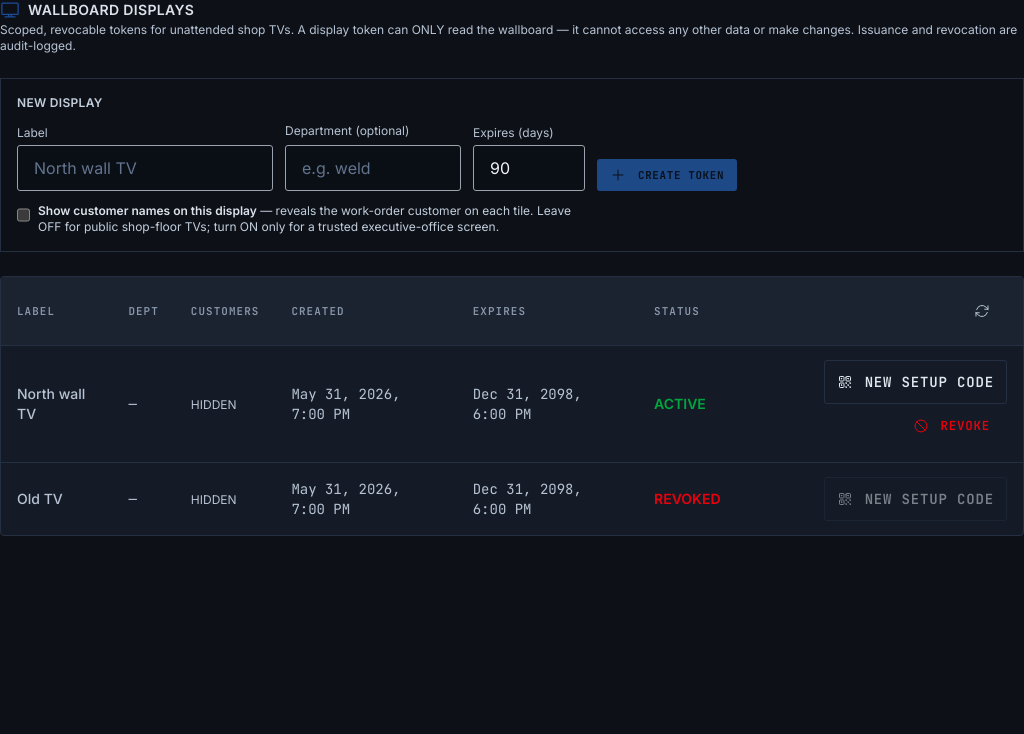
Test case: DisplayTokensTab › passes the optional department through on create
Expected: the text "North wall TV" is shown, [1,346,112,462]
Type "Weld bay monitor" into the field with test id "display-token-label". click: (145, 168)
box: [17,145,273,191]
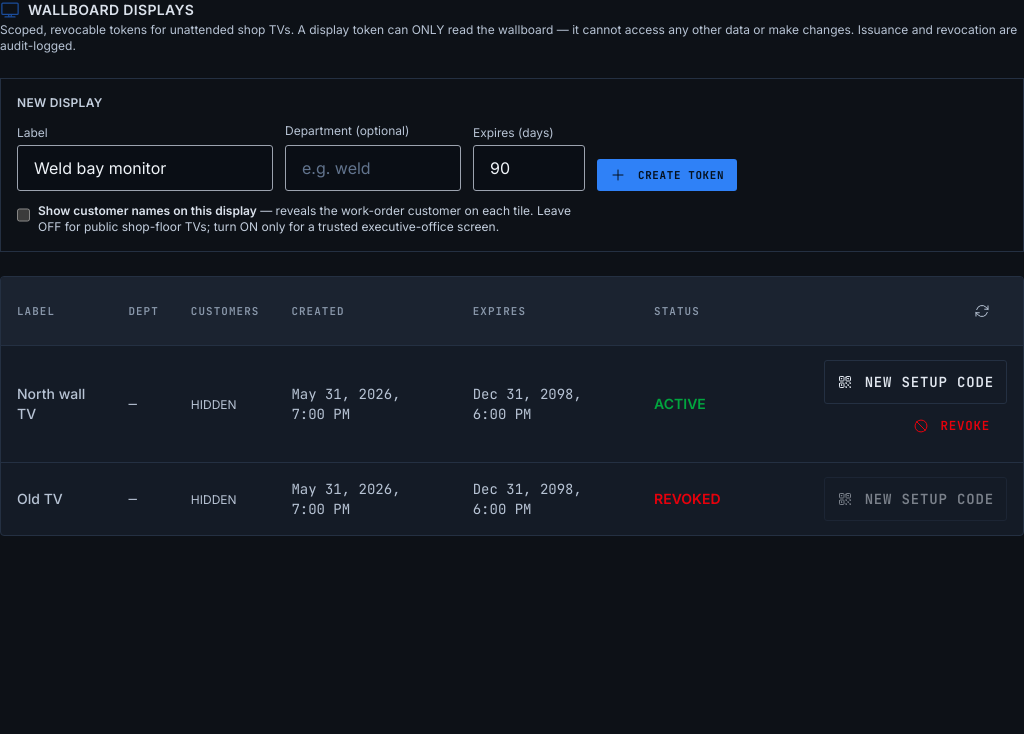
Type "weld" into the field with test id "display-token-dept". click: (373, 168)
box: [285,145,461,191]
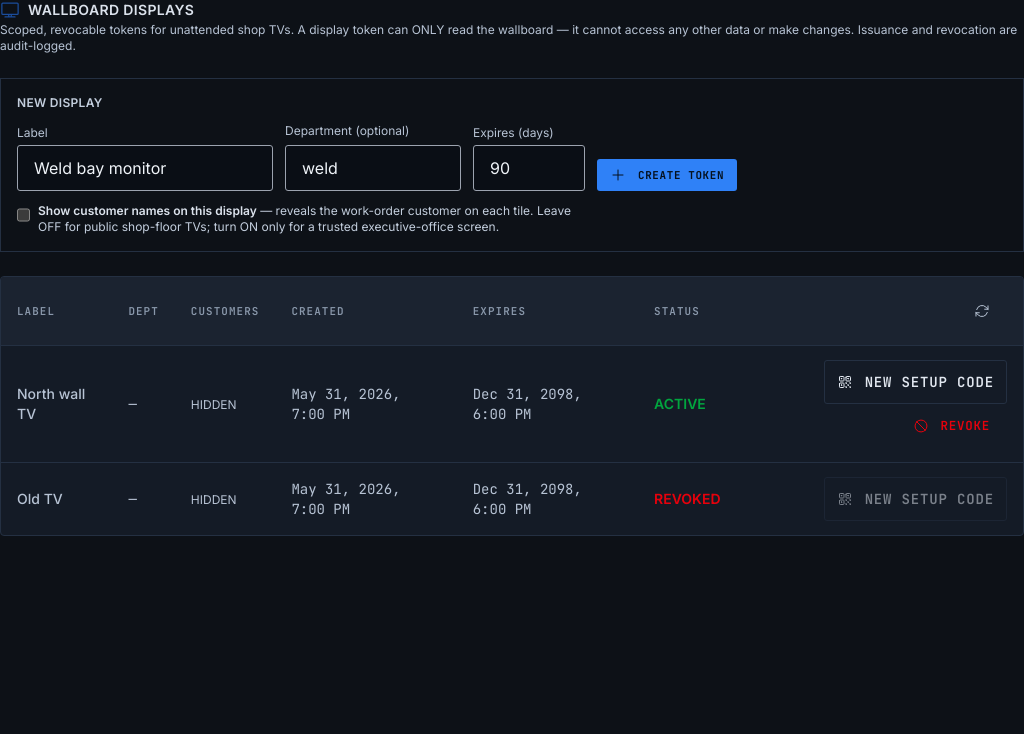
Click the button "Create token". click: (667, 175)
box: [597,159,737,191]
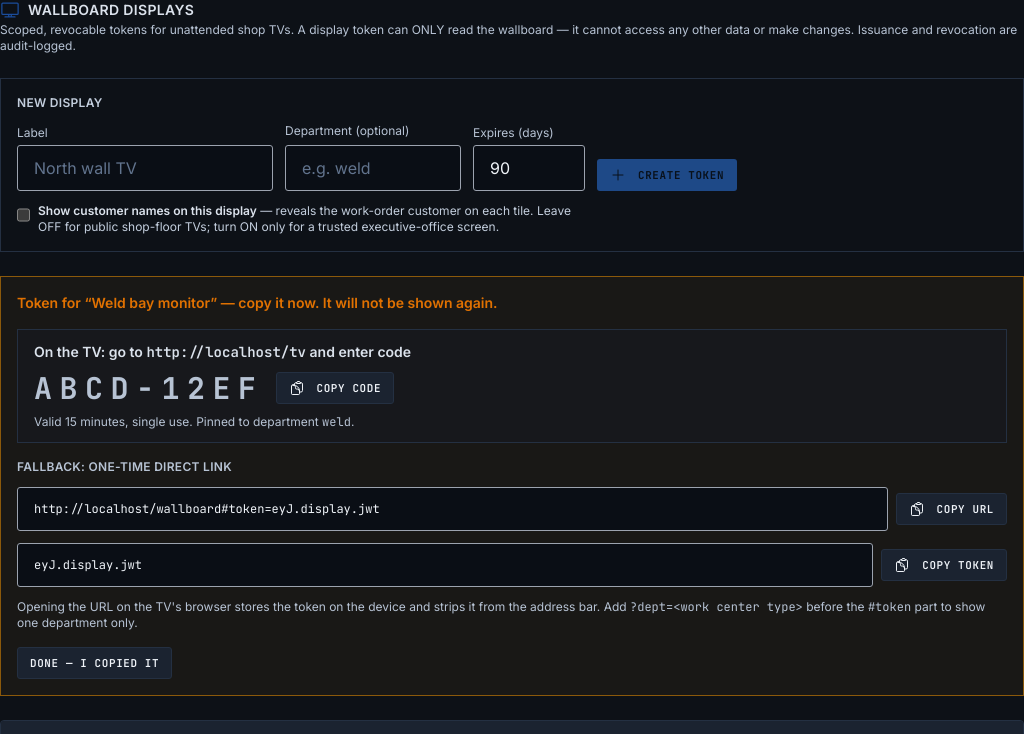
Result: the element with test id "issued-panel" shows "pinned to department" at [196,414,322,429]
